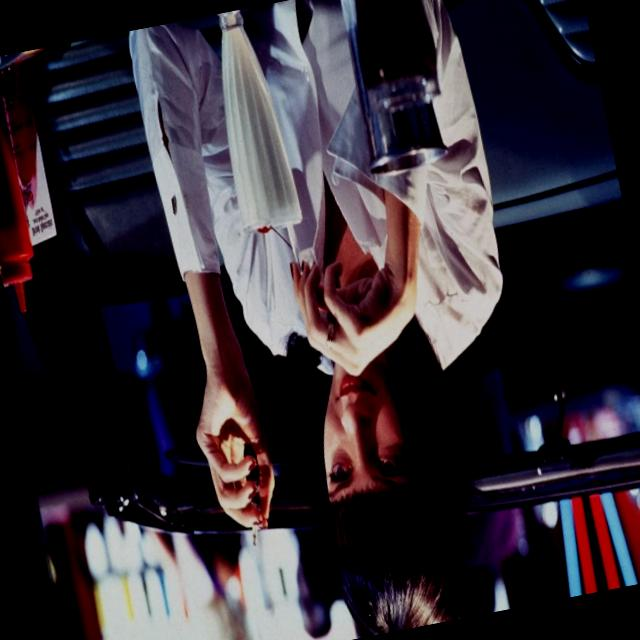cigarette: (224, 478, 276, 560)
